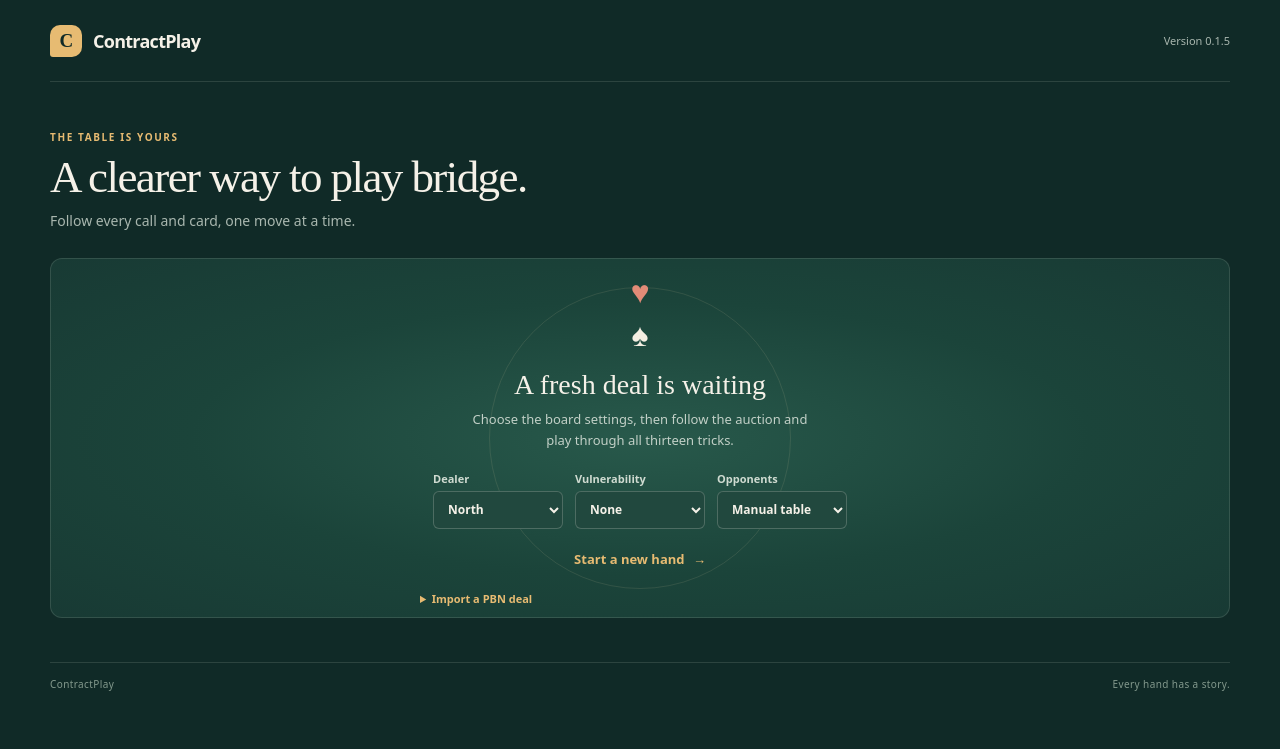
Test: bridge table › centers the auction and keeps setup, PBN import, and recent hands in the table menu
Click the button "Start a new hand →".
click(640, 559)  # box 574,541 -> 706,577
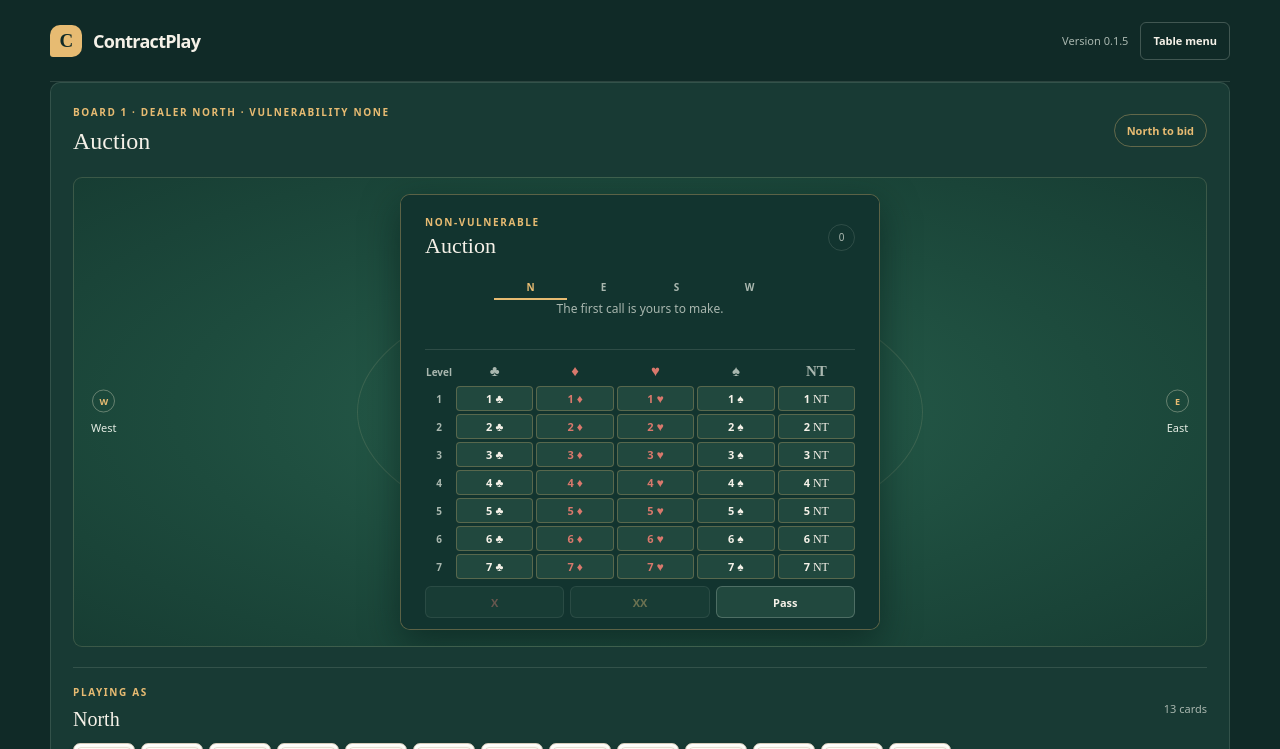
Now the text "Table menu" is shown
Click the heading "Table menu".
click(1185, 40)  # box 1140,22 -> 1230,60
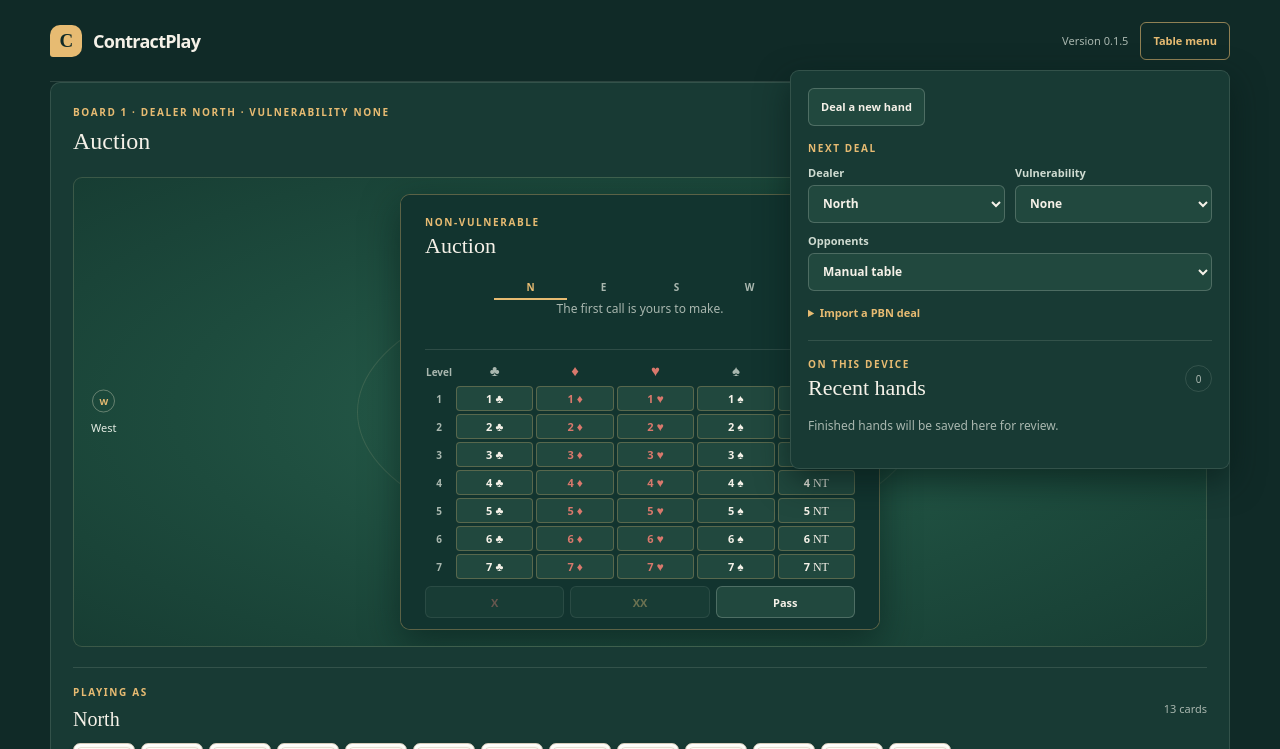
Now the dropdown labelled "Dealer" is shown, box 808,184 -> 1005,222
Now the heading "Import a PBN deal" is shown
Now the element "Recent hands" is shown, box 808,340 -> 1212,434
Click the heading "Import a PBN deal".
click(870, 312)  # box 820,304 -> 920,320
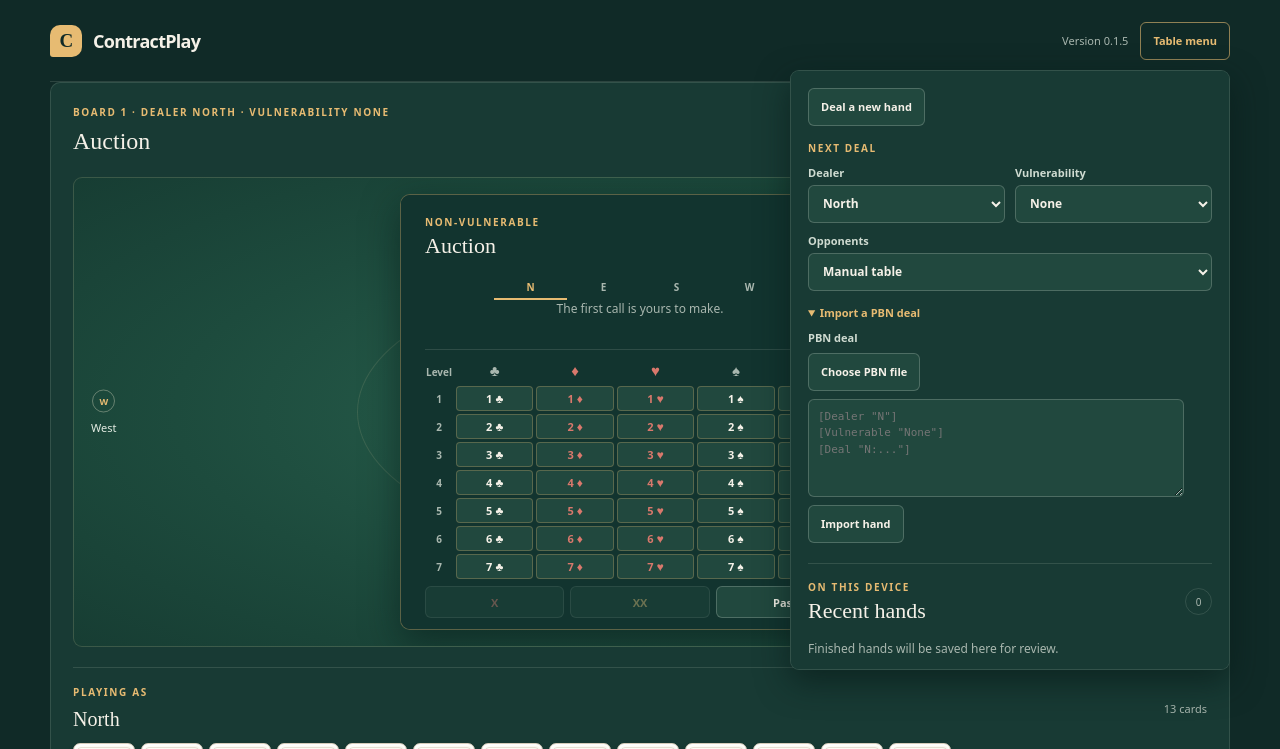
Now the button "Choose PBN file" is shown, box 808,352 -> 920,390
Now the button "Import hand" is shown, box 808,504 -> 904,542
